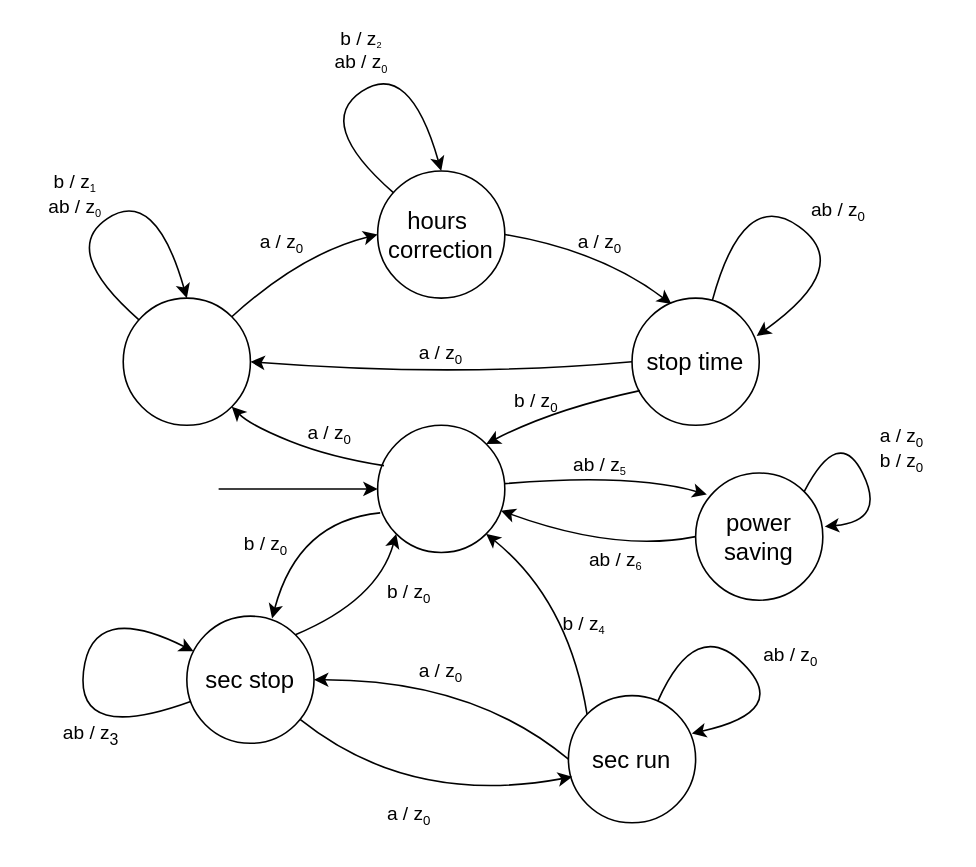
The diagram is 976 pixels wide and 867 high, and some of its shapes have lost their labels. Each missing label, with the centre of its shape:
"minutes correction" goes at (186,361).
"time" goes at (440,488).
